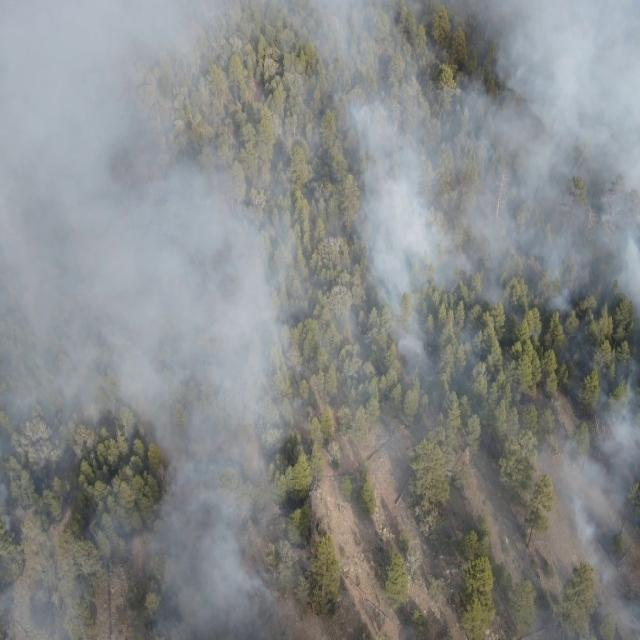smoke: (0, 0, 640, 309), (0, 307, 302, 640), (301, 306, 640, 526), (518, 520, 640, 640)
